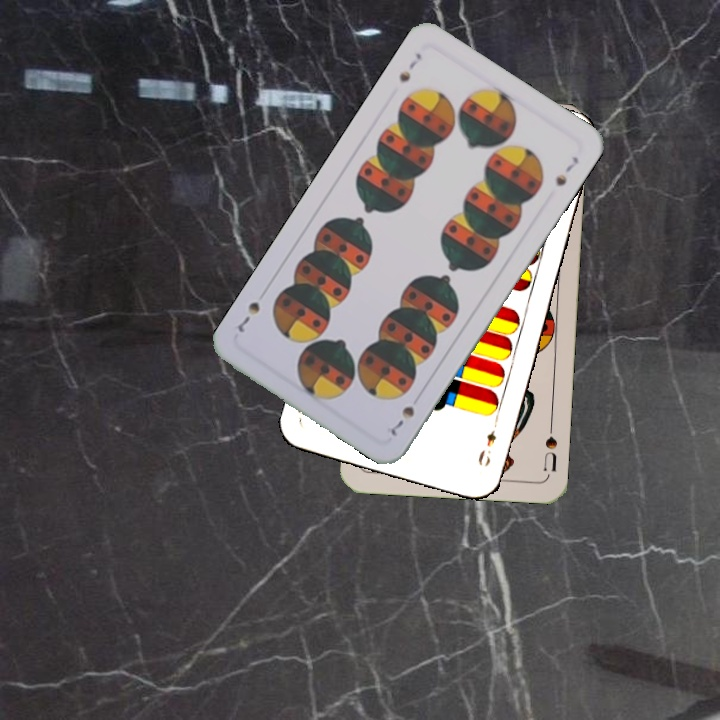E9: (474, 426, 499, 470)
S7: (386, 401, 417, 439), (395, 48, 424, 85)
SU: (539, 419, 560, 474)
